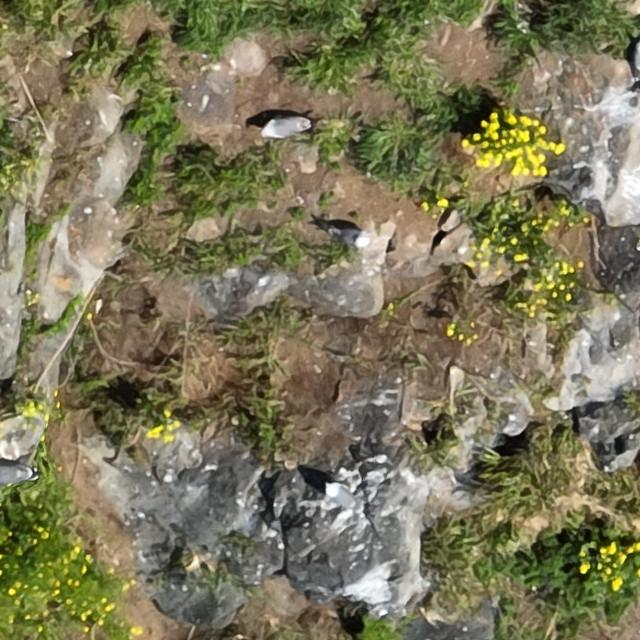umineko: (264, 118, 304, 138), (330, 226, 366, 246), (325, 483, 353, 503), (1, 467, 27, 486)
